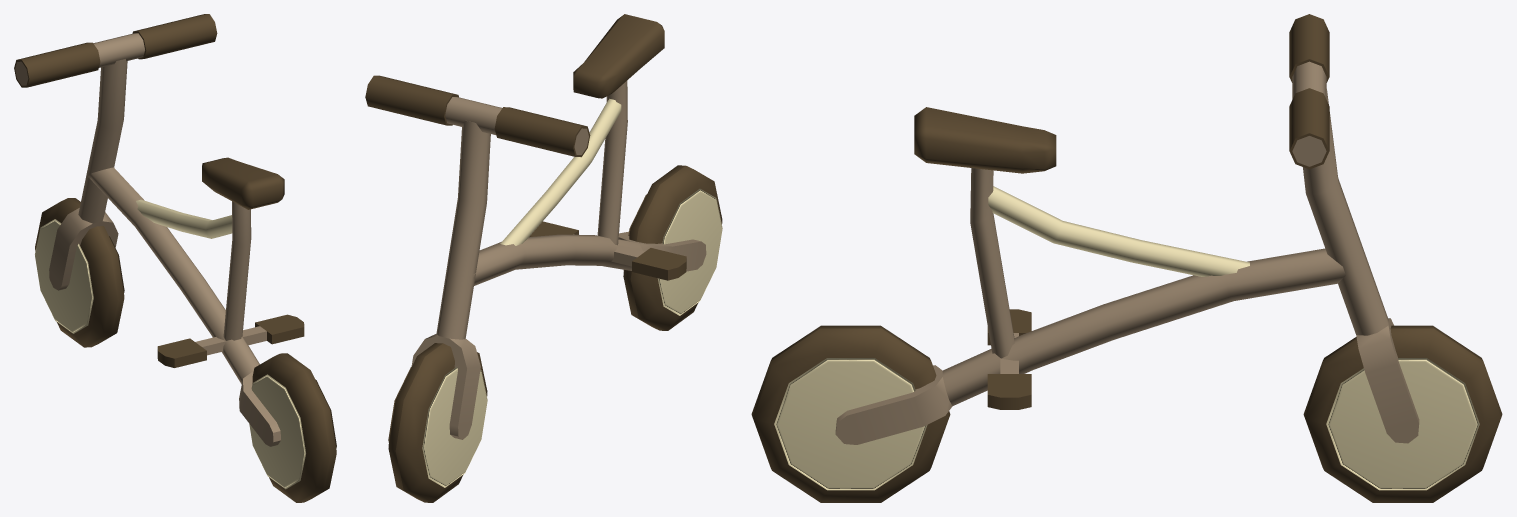
The model's file is Bike_MDL.fbx.
The picture shows the model from 3 angles, left to right: view 1: azimuth 30°, elevation 25°; view 2: azimuth 150°, elevation 25°; view 3: azimuth 270°, elevation 25°; orthographic projection. The views are drawn at different scales.
Parts seen in each view (by area): view 1: Bike_GEO; view 2: Bike_GEO; view 3: Bike_GEO.
Part boxes in pixels (x1,y1,x2,y2): Bike_GEO: [14, 14, 336, 502]; Bike_GEO: [365, 14, 722, 502]; Bike_GEO: [751, 14, 1502, 502].
Bounding box in the file's own units: 72.32 × 121 × 193.
